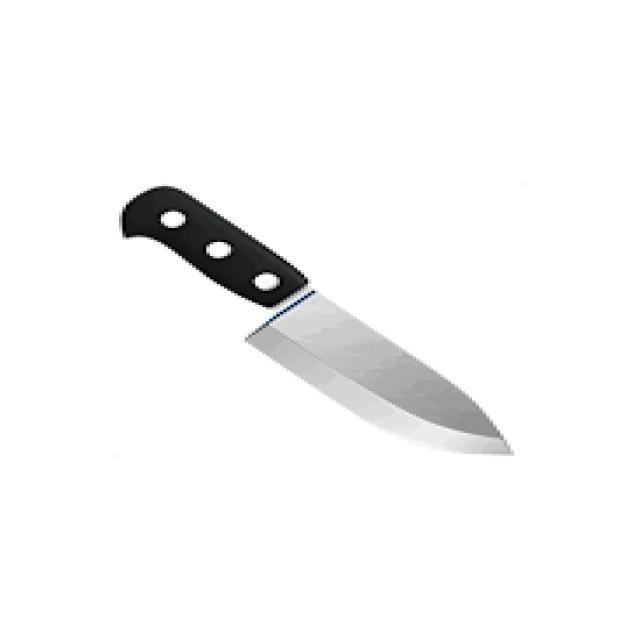Knife: (119, 184, 511, 454)
